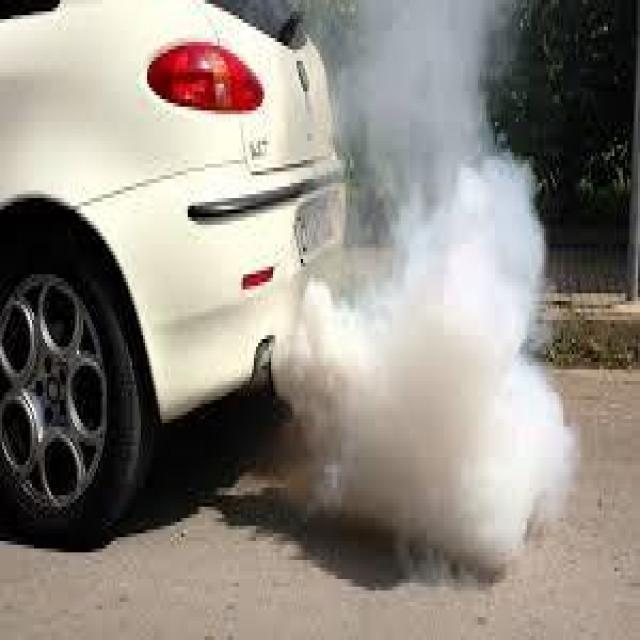Smoke: (284, 172, 578, 584), (338, 3, 534, 174)
